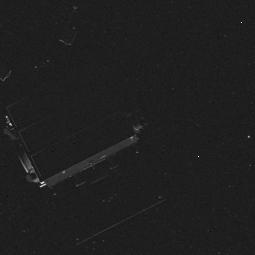proba_2: (4, 50, 142, 194)
